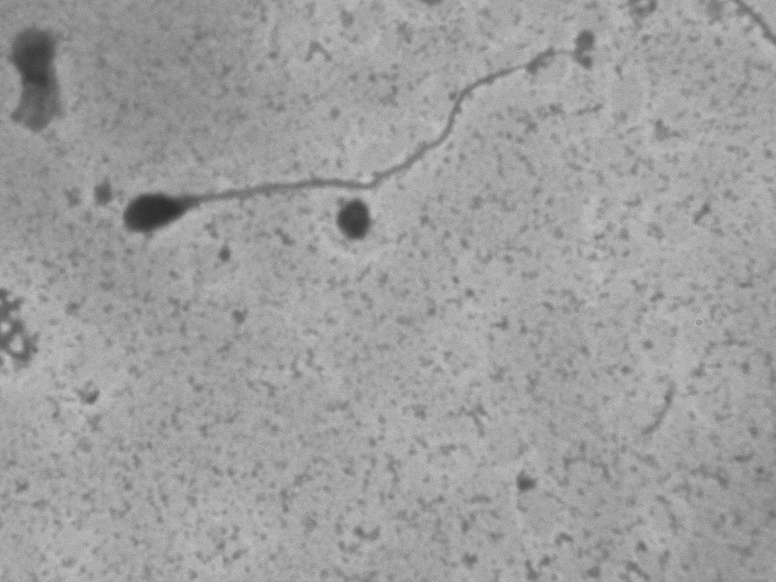Abnormal: (104, 119, 305, 265)
